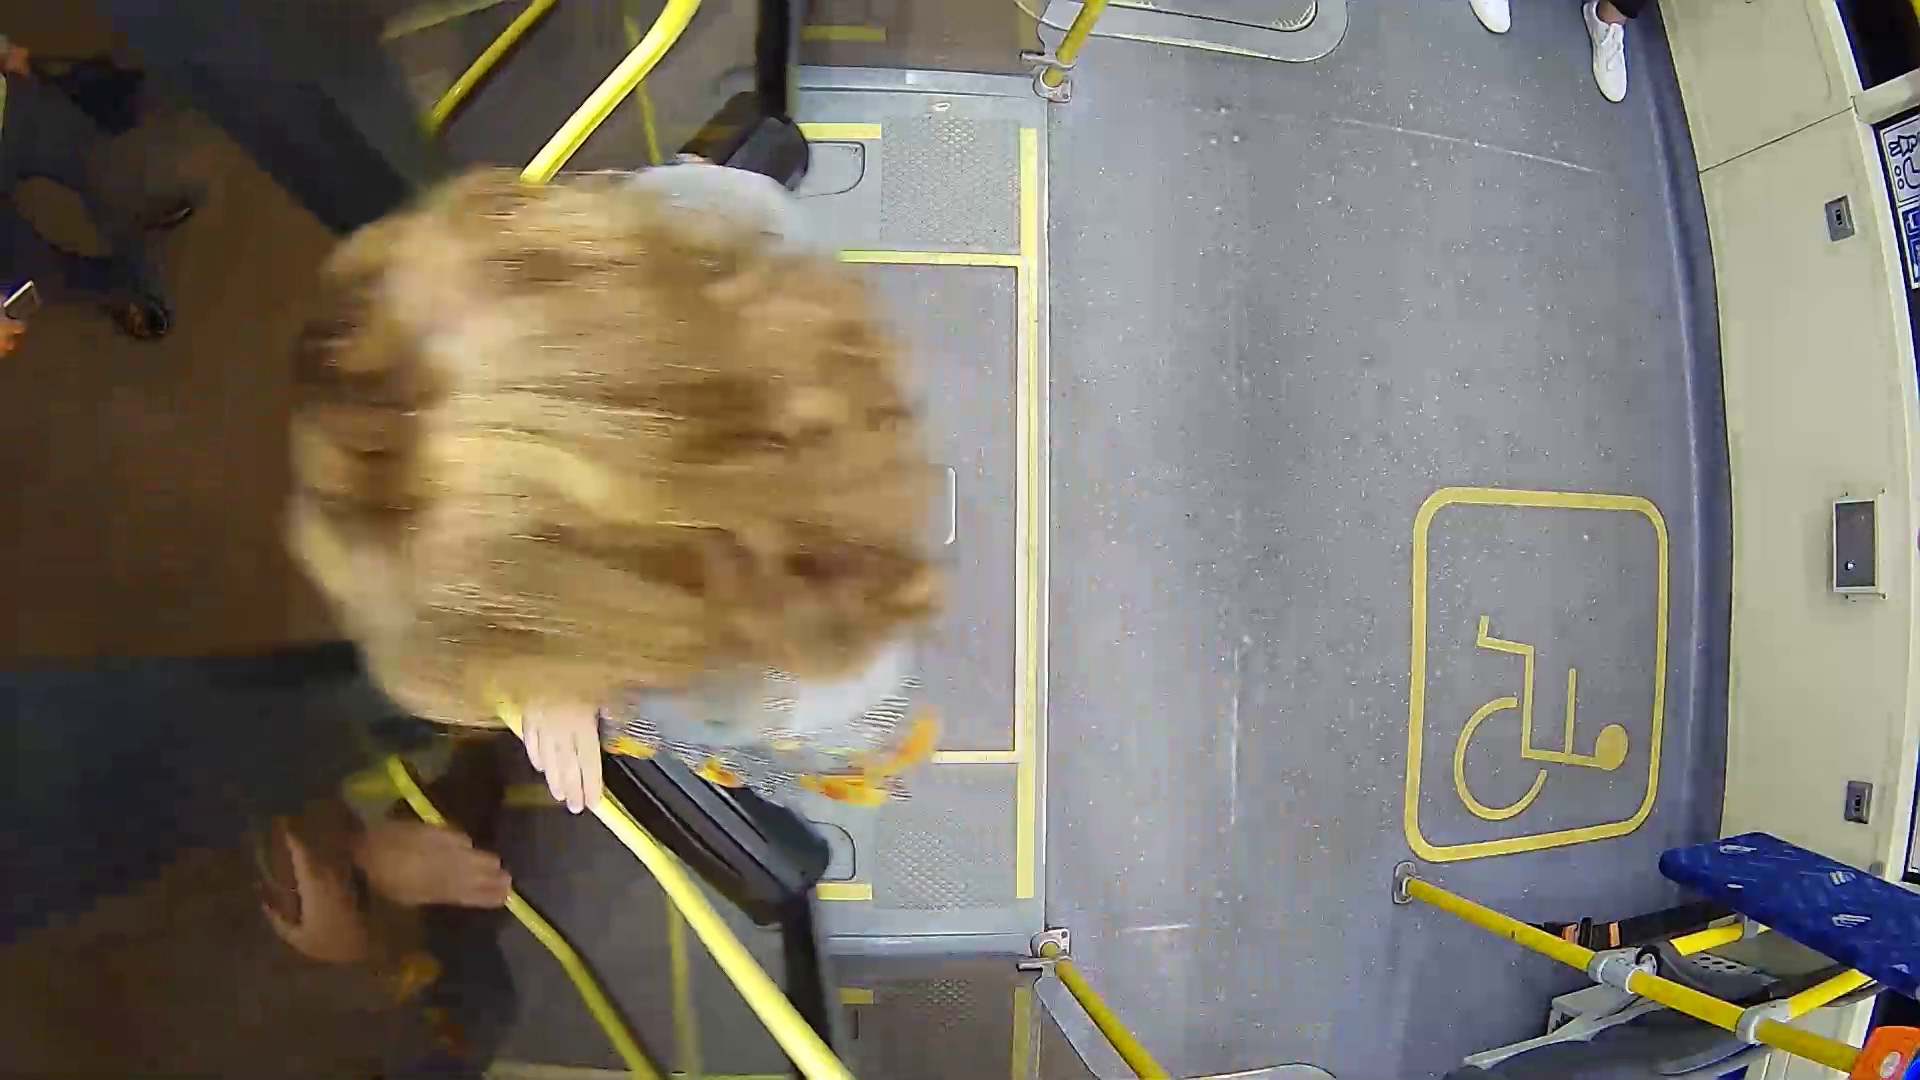person: (215, 147, 987, 799)
